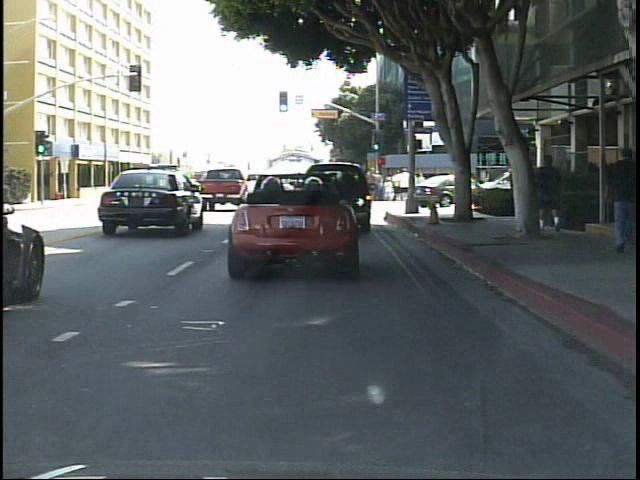person: (604, 141, 638, 260), (538, 146, 570, 237), (129, 175, 148, 202)
